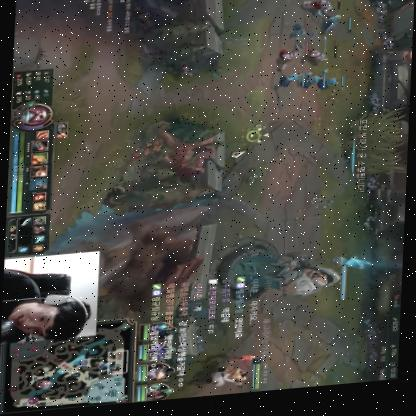streamer: (3, 265, 96, 344)
